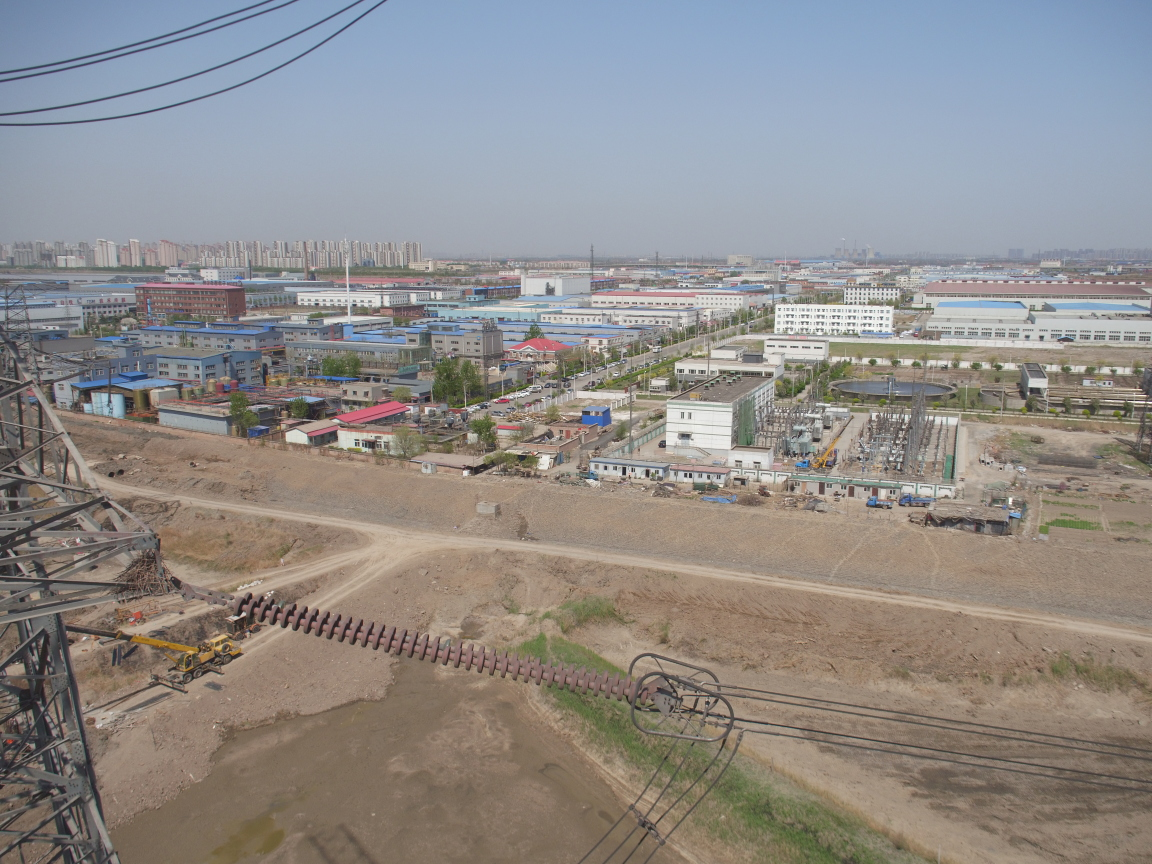insulator: (204, 588, 653, 708)
